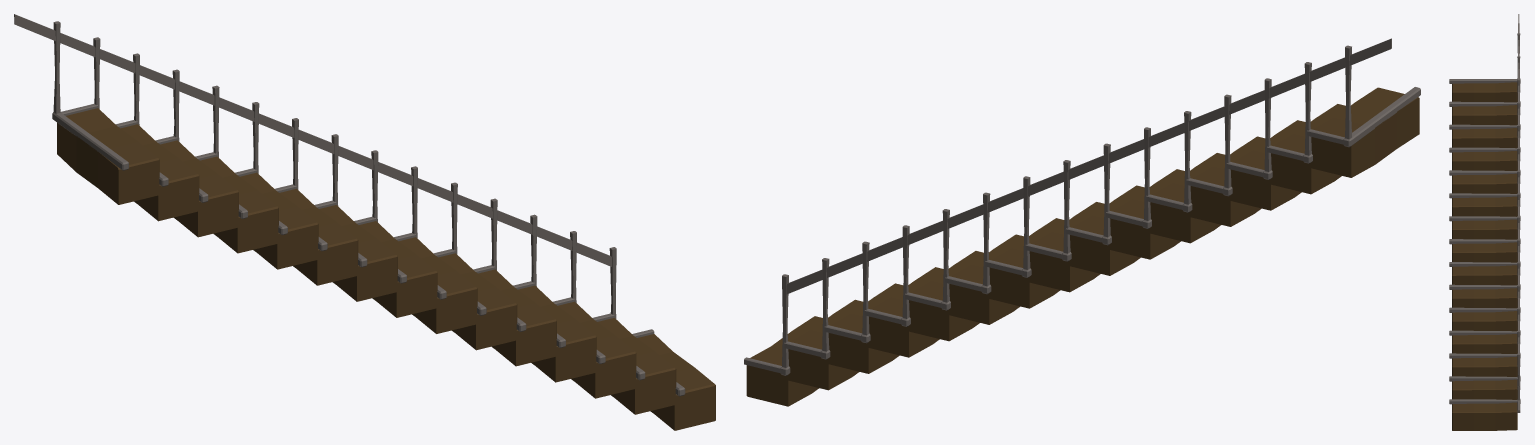
File: stairs.fbx
The picture shows the model from 3 angles, left to right: view 1: azimuth 30°, elevation 25°; view 2: azimuth 150°, elevation 25°; view 3: azimuth 270°, elevation 25°; orthographic projection. The views are drawn at different scales.
Visible parts, largest first — view 1: stairs; view 2: stairs; view 3: stairs.
Part boxes in pixels (x1,y1,x2,y2): stairs: [14, 14, 715, 430]; stairs: [744, 38, 1420, 406]; stairs: [1449, 14, 1520, 430].
Bounding box in the file's own units: 3058 × 2348 × 587.
